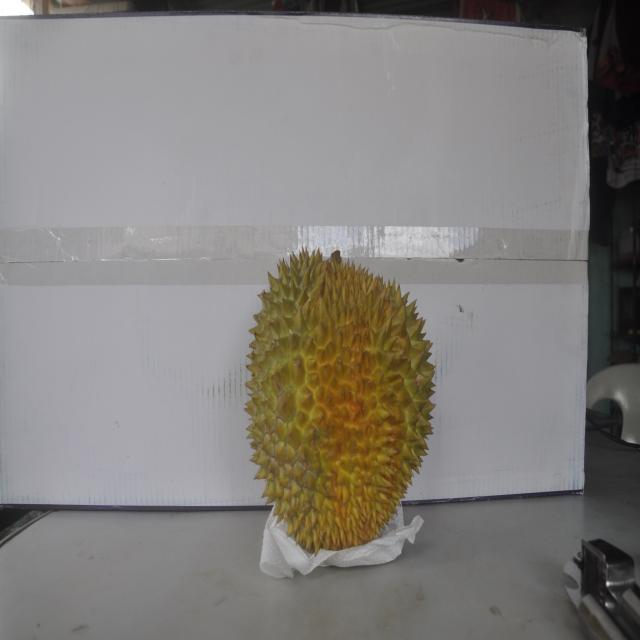mature: (244, 242, 432, 557)
